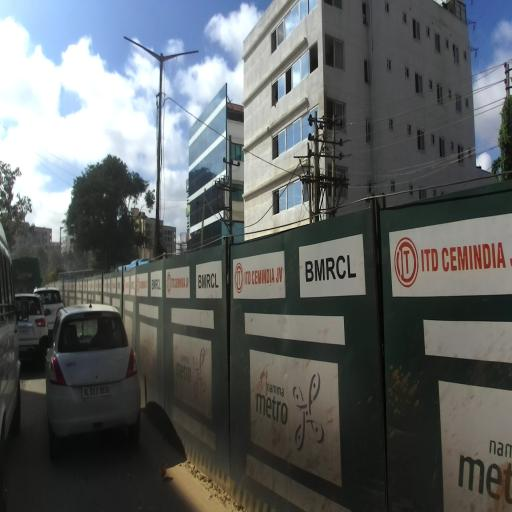street_light_0: (124, 36, 163, 68), (160, 50, 199, 68), (60, 223, 75, 229)
